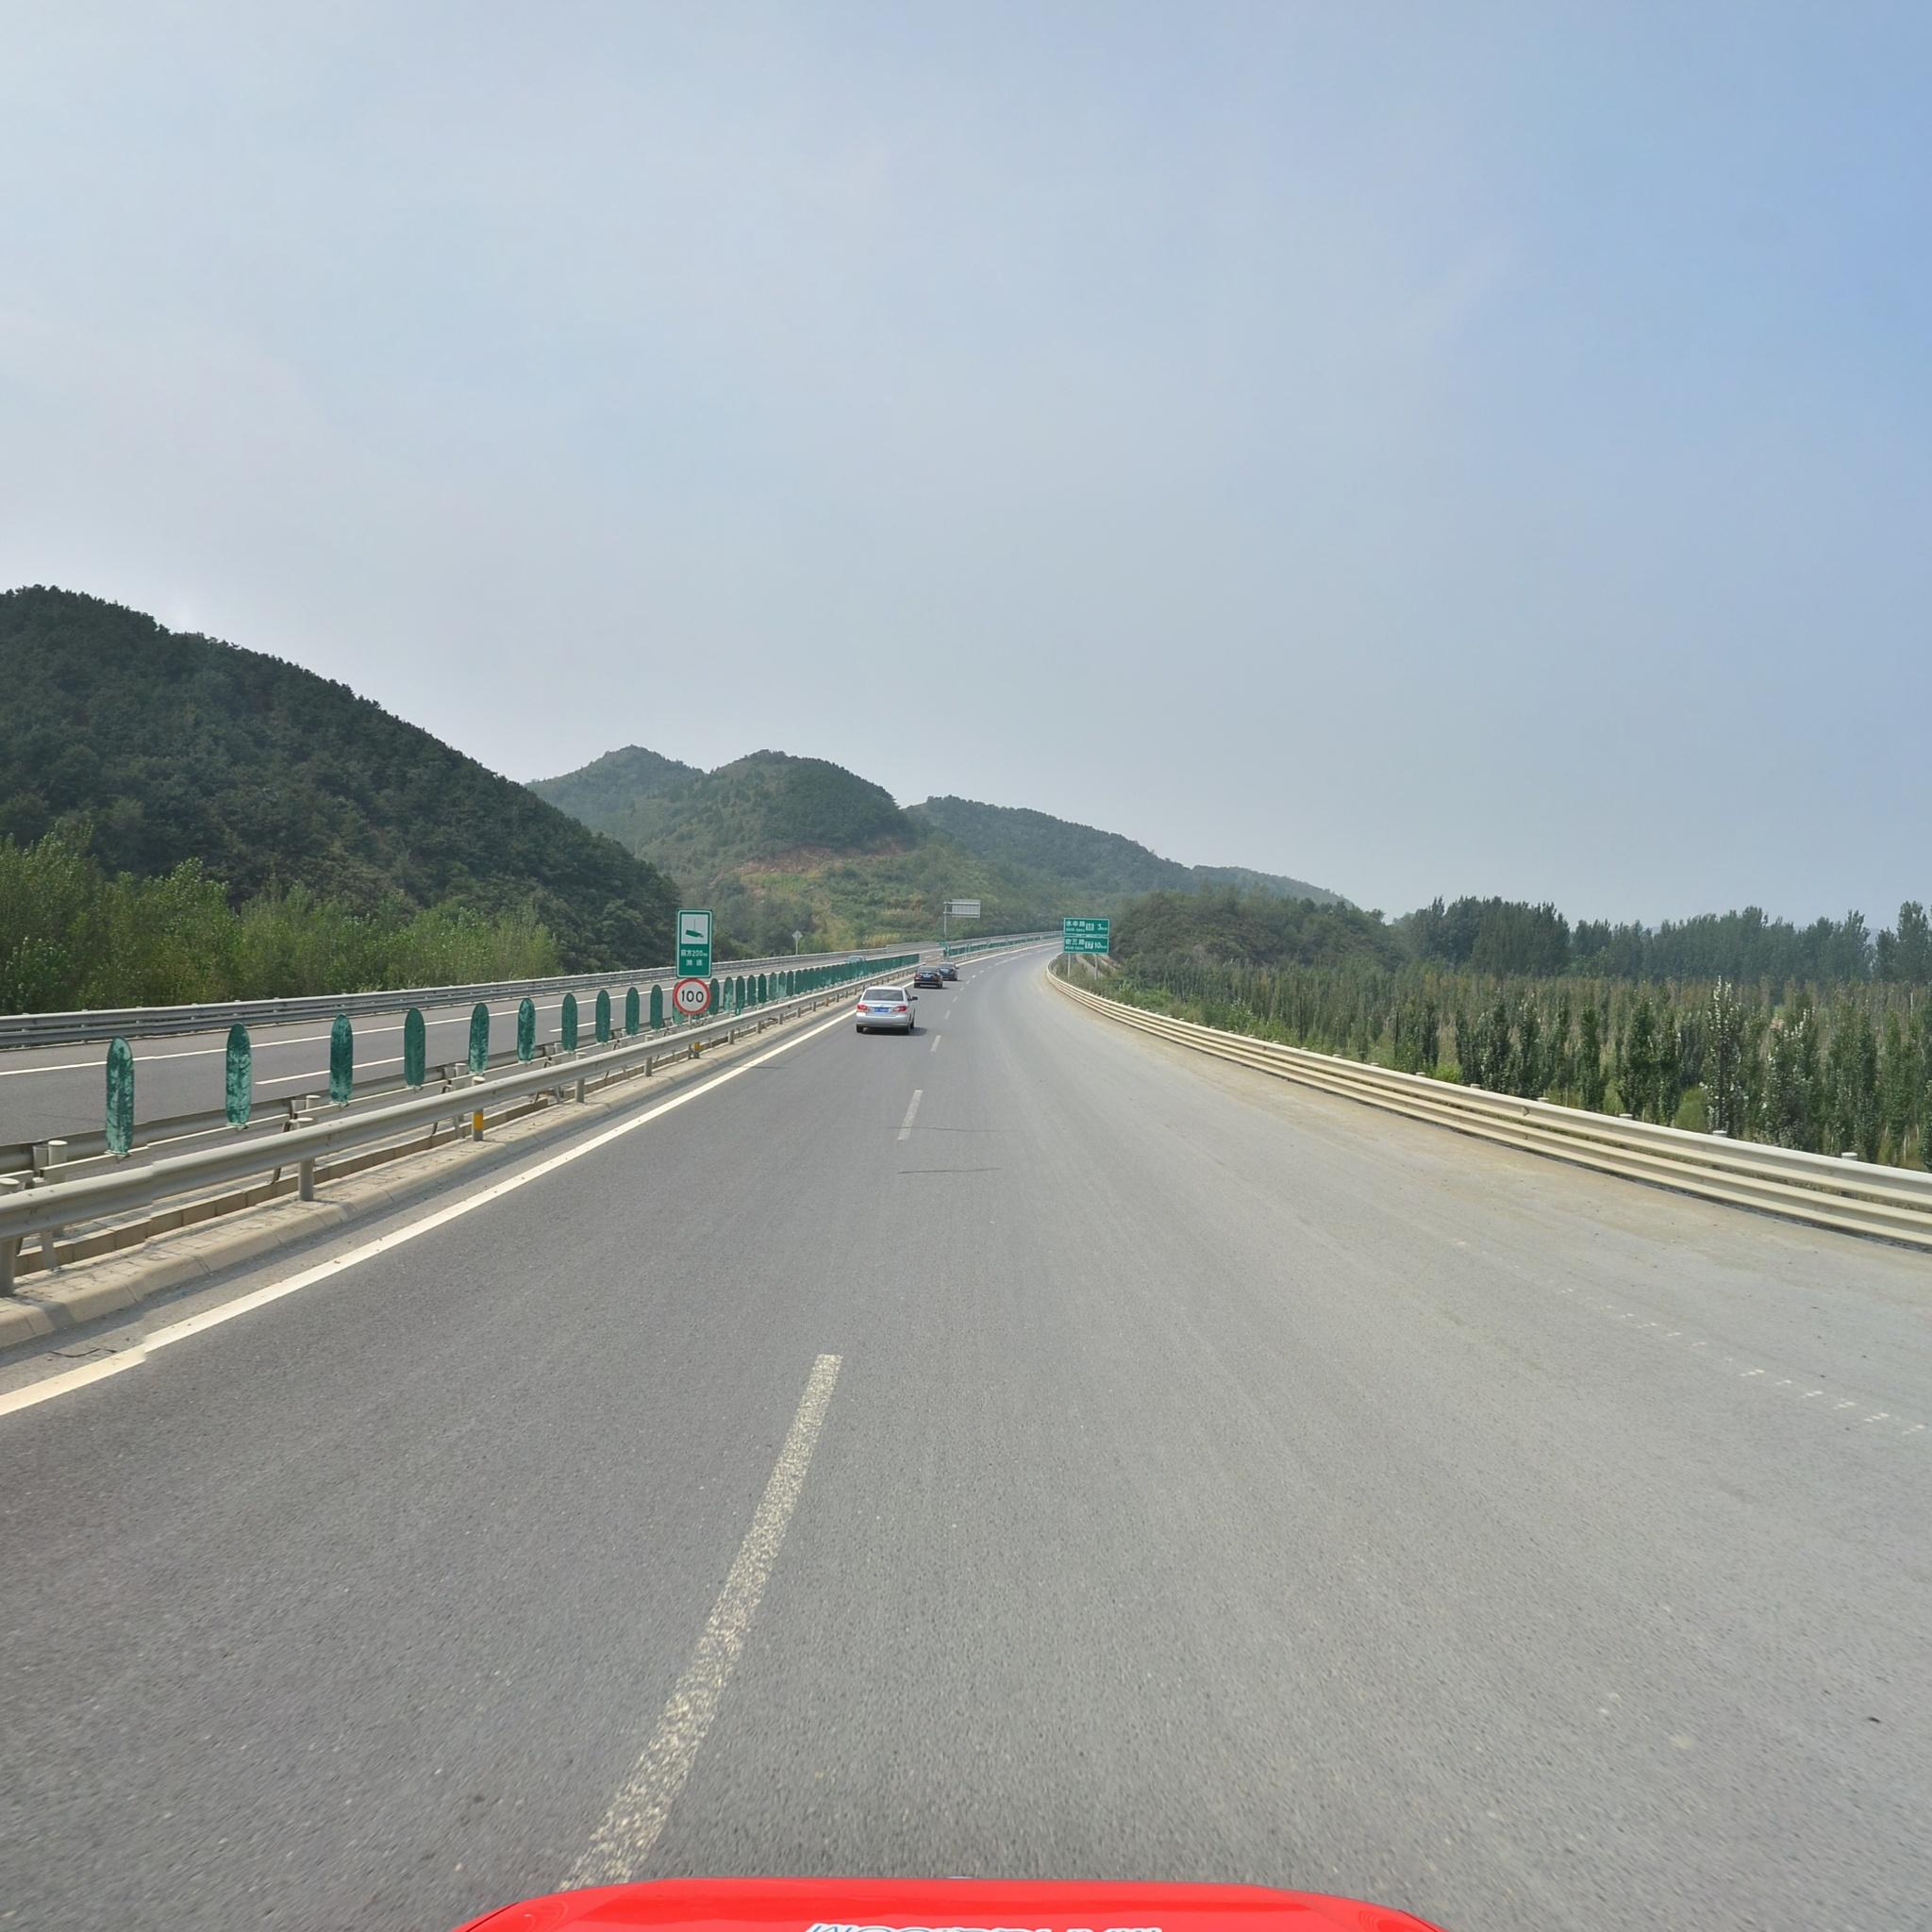pl100: (674, 980, 708, 1014)
